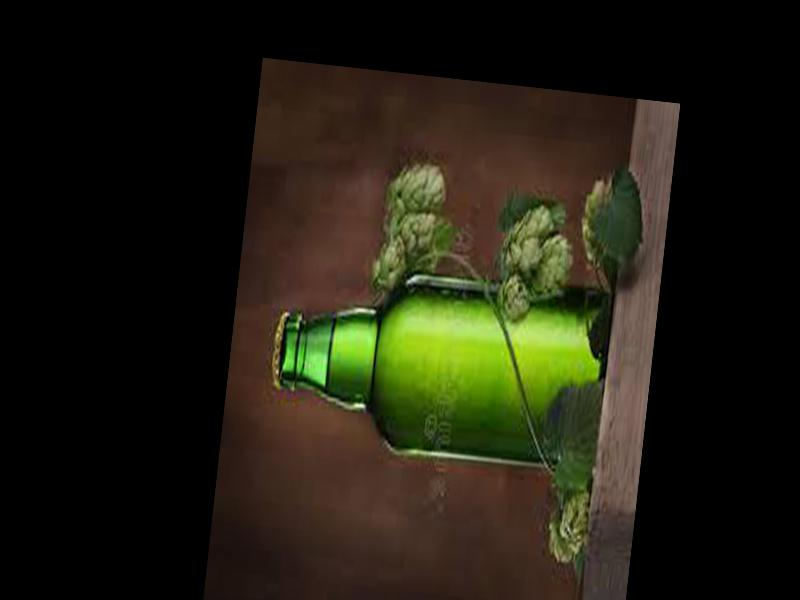Beer: (262, 263, 619, 476)
